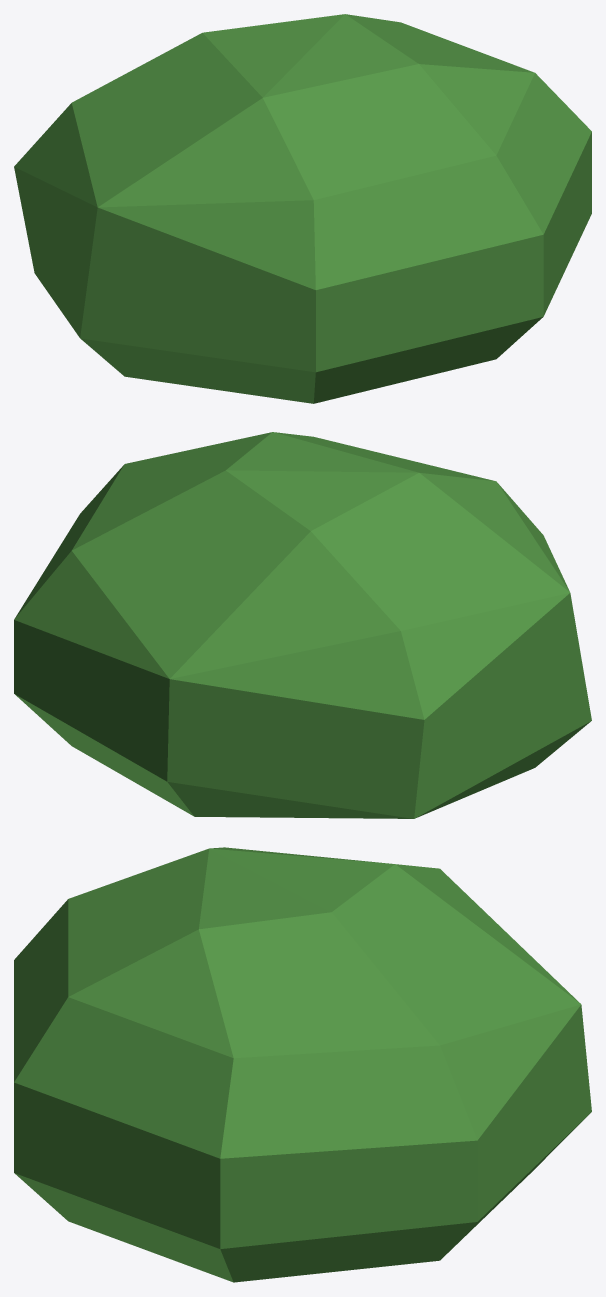
The model's file is thickGrass.fbx.
3 views of the same model, one above another, from view 1: azimuth 30°, elevation 25°; view 2: azimuth 150°, elevation 25°; view 3: azimuth 270°, elevation 25° (orthographic). The views are drawn at different scales.
Visible parts, largest first — view 1: Sphere; view 2: Sphere; view 3: Sphere.
Part boxes in pixels (bbox=[...]): Sphere: bbox=[14, 14, 591, 403]; Sphere: bbox=[14, 432, 591, 818]; Sphere: bbox=[14, 847, 591, 1282].
Bounding box in the file's own units: 308 × 174 × 274.
Materials: 1 (1 with a texture image).
